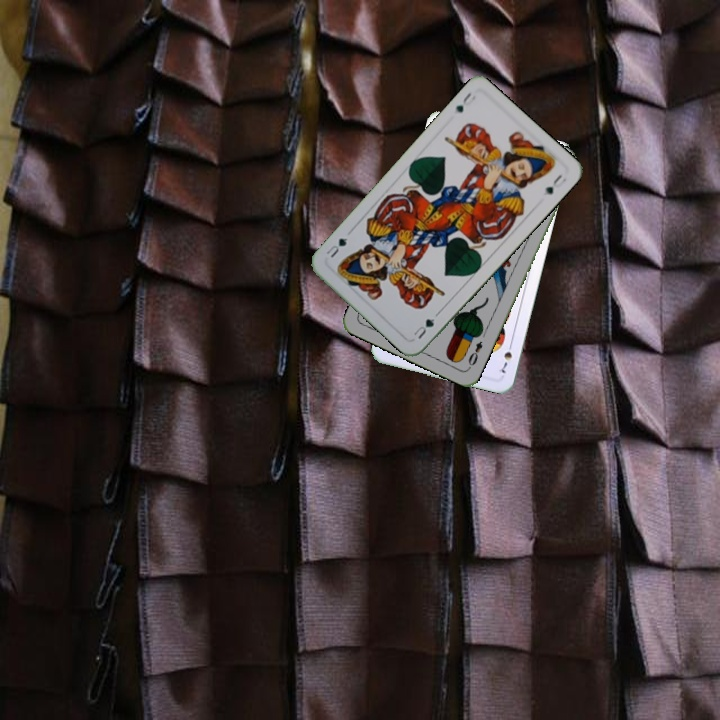EO: (464, 337, 485, 371)
GU: (410, 313, 437, 342), (451, 88, 478, 115)
S7: (495, 338, 515, 376)
